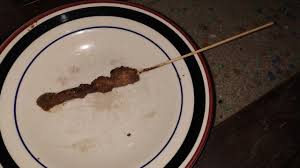Sate ayam: (34, 21, 275, 116)
